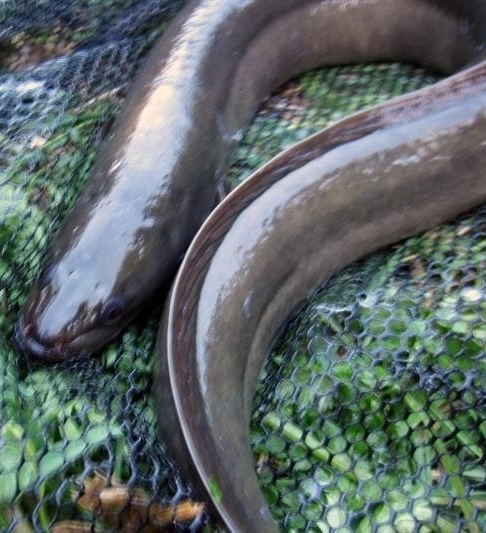Anguilla anguilla: (20, 1, 486, 533)
